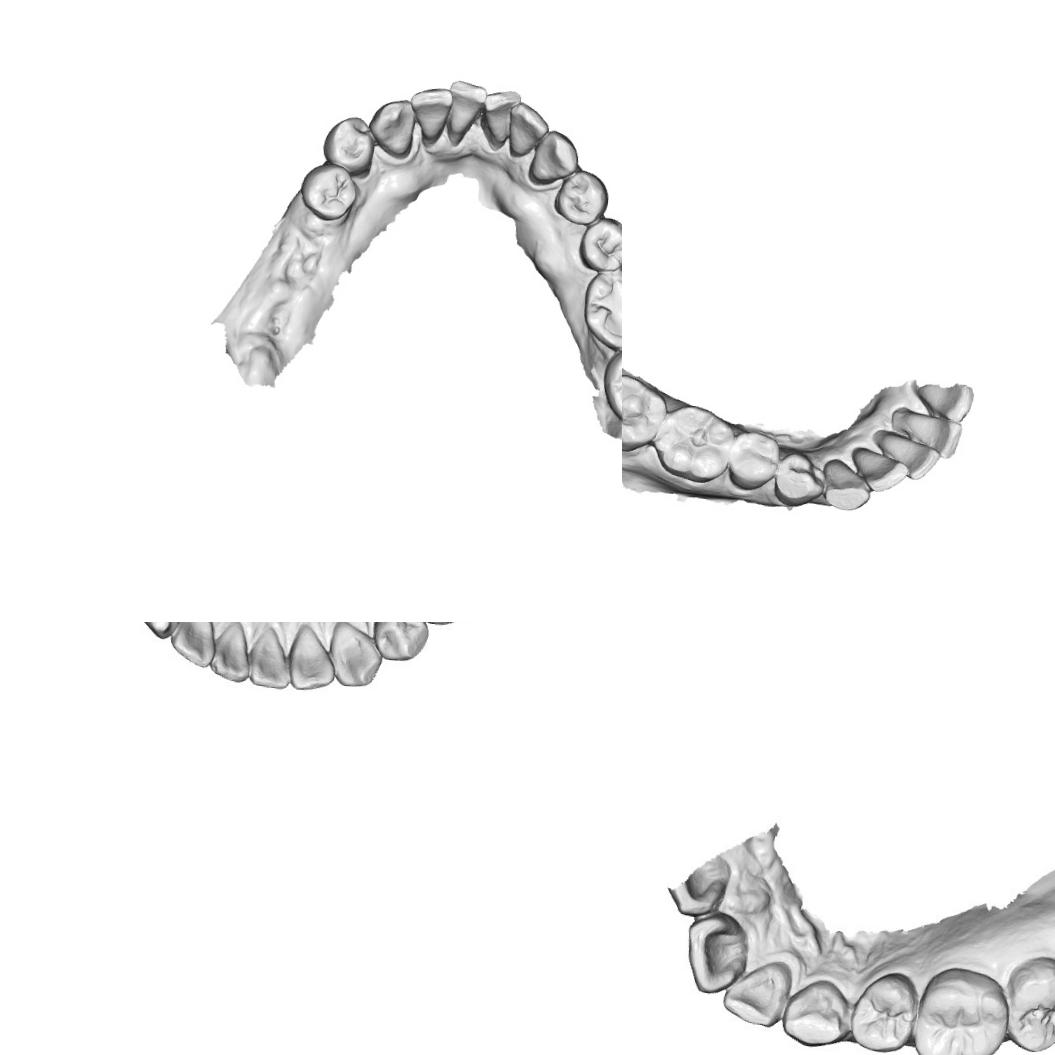canine: (782, 978, 852, 1051), (325, 622, 382, 687), (526, 126, 583, 188), (366, 96, 418, 160), (818, 456, 872, 512), (133, 622, 191, 640)
incisor: (686, 909, 751, 995), (721, 953, 795, 1027), (886, 402, 966, 461), (285, 622, 338, 691), (876, 431, 943, 482), (848, 443, 912, 494), (443, 77, 488, 144), (247, 626, 293, 691), (477, 86, 526, 146), (505, 100, 552, 160), (908, 383, 976, 424), (405, 84, 454, 140), (211, 622, 255, 682), (169, 622, 217, 665)
molar: (913, 966, 1010, 1055), (653, 401, 738, 486), (1002, 952, 1055, 1049), (622, 369, 670, 456), (578, 263, 622, 354), (597, 342, 622, 430)
premolar: (850, 970, 918, 1050), (296, 160, 364, 223), (724, 426, 785, 492), (550, 166, 610, 229), (319, 112, 378, 176), (772, 448, 826, 509), (574, 212, 622, 273), (370, 622, 431, 666)
